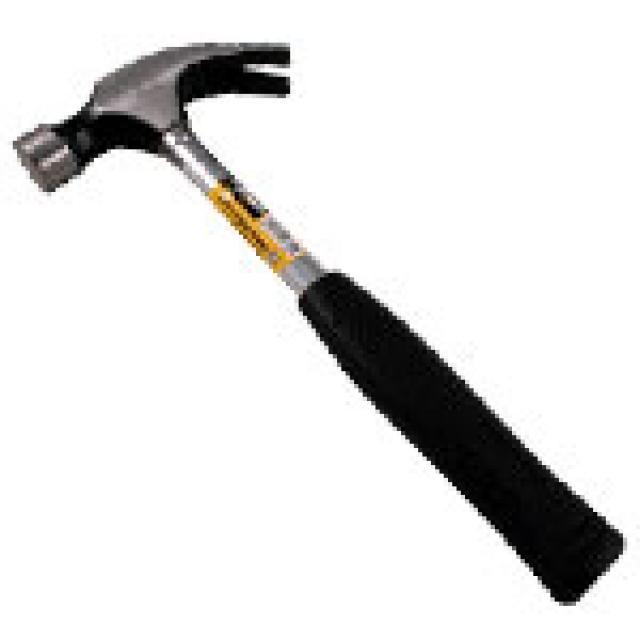hammer: (6, 32, 634, 613)
